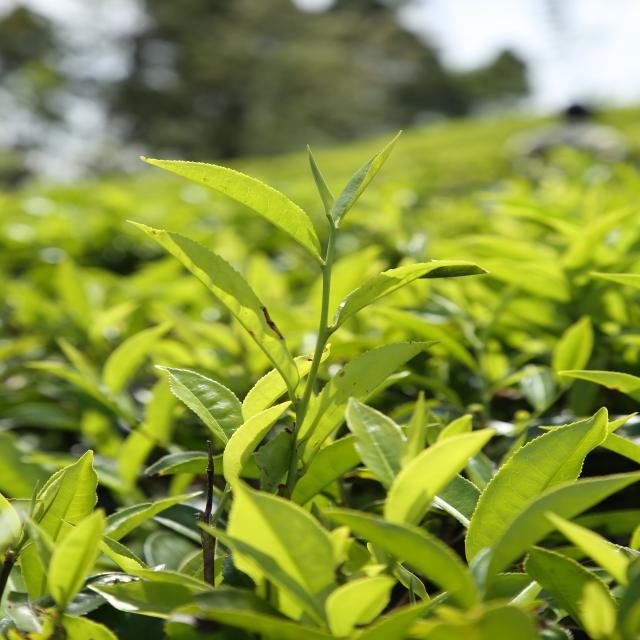Stem: (323, 262, 331, 274)
